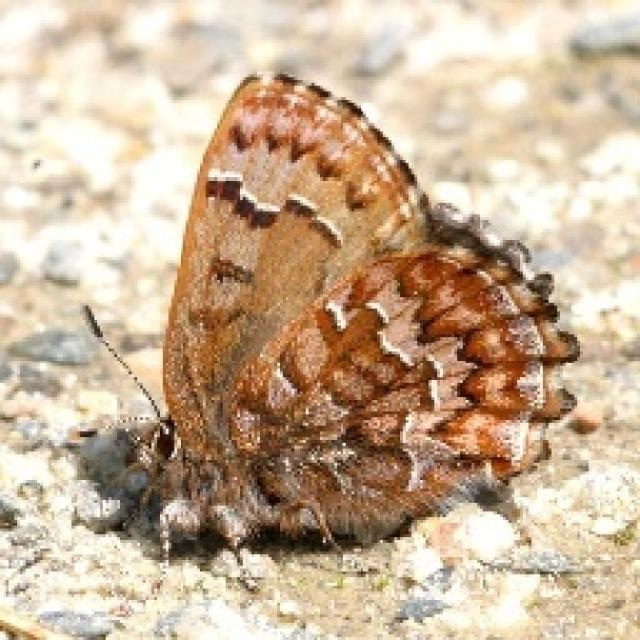butterfly: (71, 69, 580, 568)
